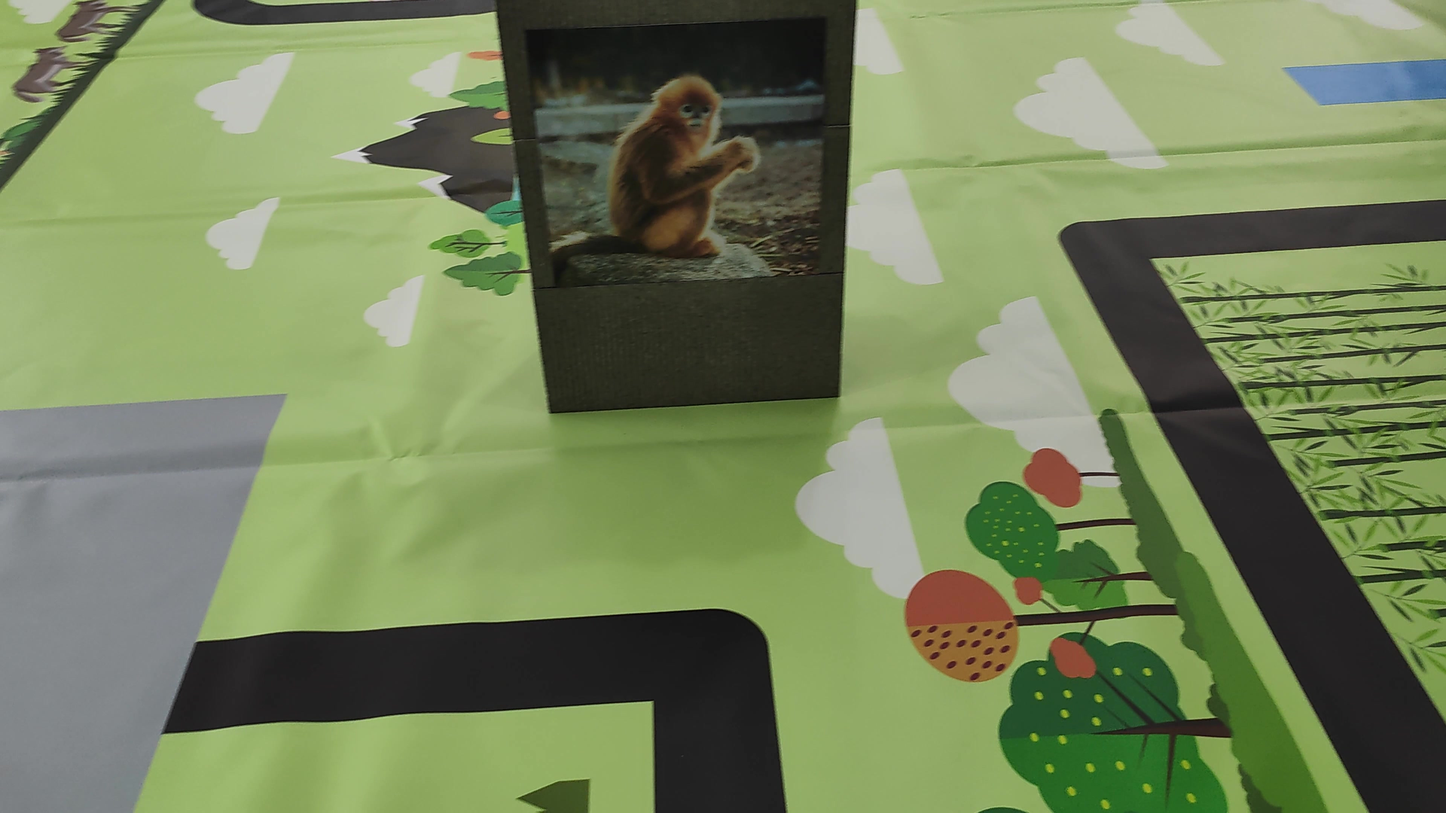monkey: (568, 50, 819, 264)
